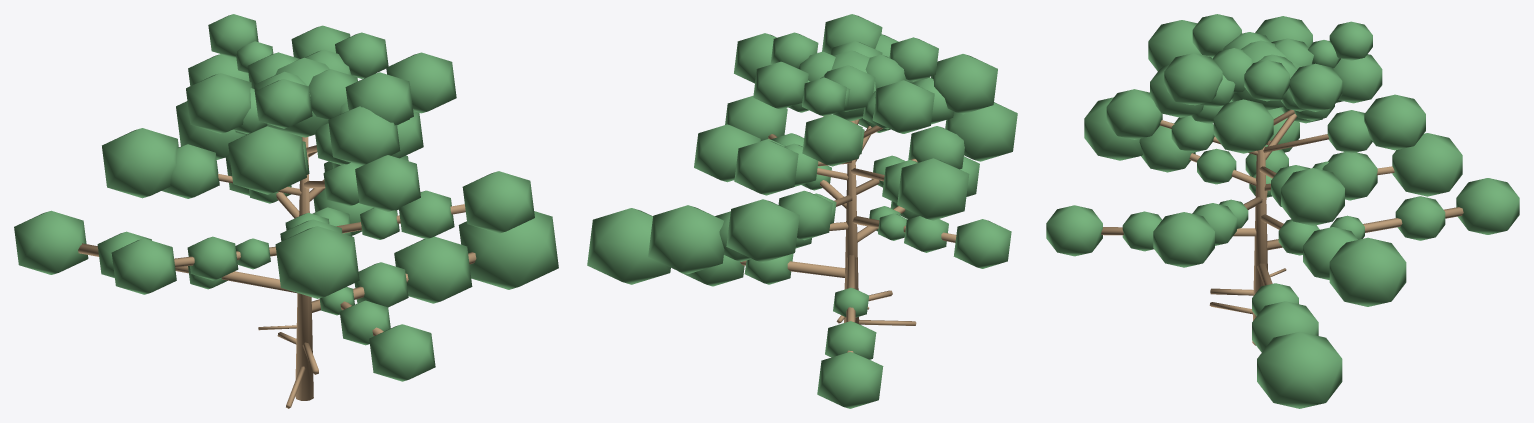
Rendered from pine_young_sapling.glb.
3 views of the same model, side by side, from view 1: azimuth 30°, elevation 25°; view 2: azimuth 150°, elevation 25°; view 3: azimuth 270°, elevation 25° (orthographic). The views are drawn at different scales.
Parts seen in each view (by area): view 1: pine_young_sapling; view 2: pine_young_sapling; view 3: pine_young_sapling.
Part boxes in pixels (x1=…): pine_young_sapling: x1=14, y1=14, x2=558, y2=408; pine_young_sapling: x1=587, y1=14, x2=1017, y2=408; pine_young_sapling: x1=1046, y1=14, x2=1519, y2=408.
Size of the model in its own units: 6.5 by 4.82 by 6.62.
